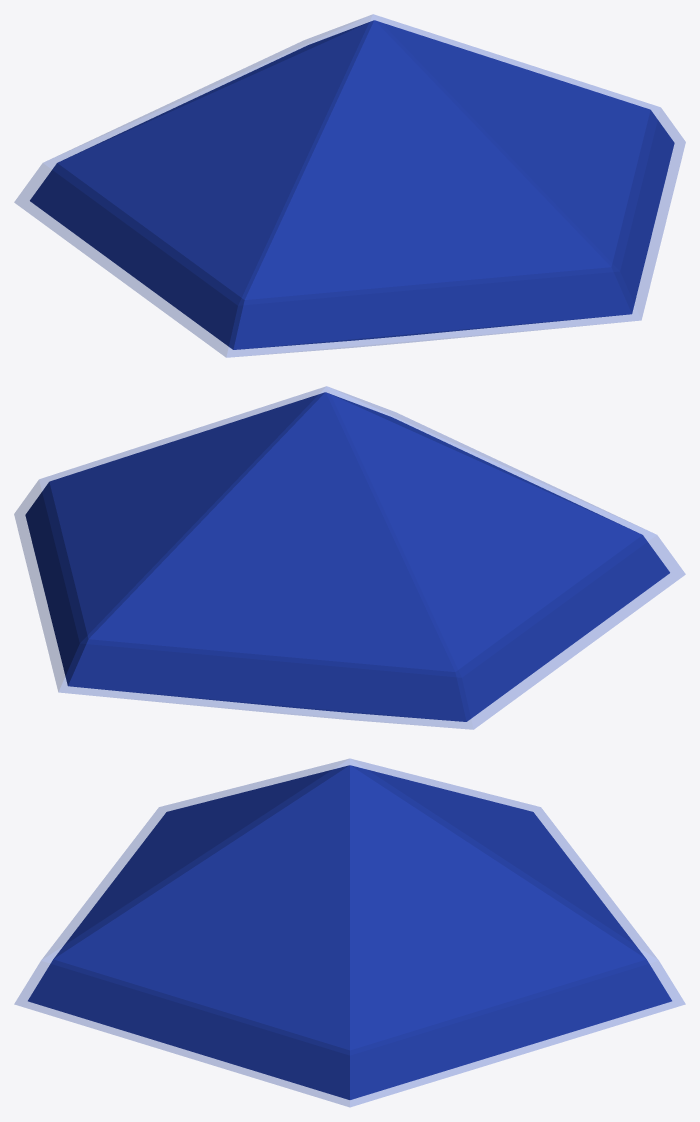
File: item_gem5.glb
3 renders of one model, top to bottom at view 1: azimuth 30°, elevation 25°; view 2: azimuth 150°, elevation 25°; view 3: azimuth 270°, elevation 25°, orthographic. The views are drawn at different scales.
Visible parts, largest first — view 1: jewellery_gem5_glass, jewellery_gem5; view 2: jewellery_gem5_glass, jewellery_gem5; view 3: jewellery_gem5_glass, jewellery_gem5.
Part boxes in pixels (x1,y1,x2,y2): jewellery_gem5_glass: [14, 14, 685, 357]; jewellery_gem5: [30, 20, 674, 349]; jewellery_gem5_glass: [14, 386, 685, 729]; jewellery_gem5: [25, 392, 669, 721]; jewellery_gem5_glass: [14, 759, 685, 1106]; jewellery_gem5: [28, 765, 671, 1099].
Bounding box in the file's own units: 0.9045 × 0.48 × 0.9511.
